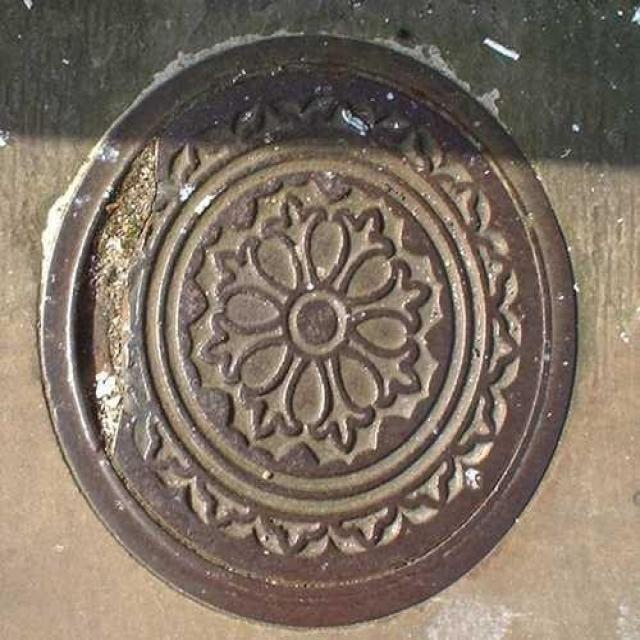manhole: (37, 34, 579, 630)
